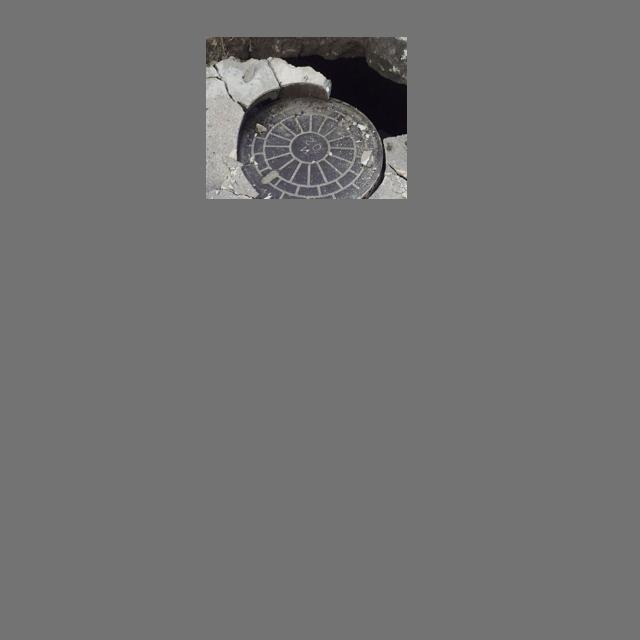circle: (209, 43, 404, 197)
